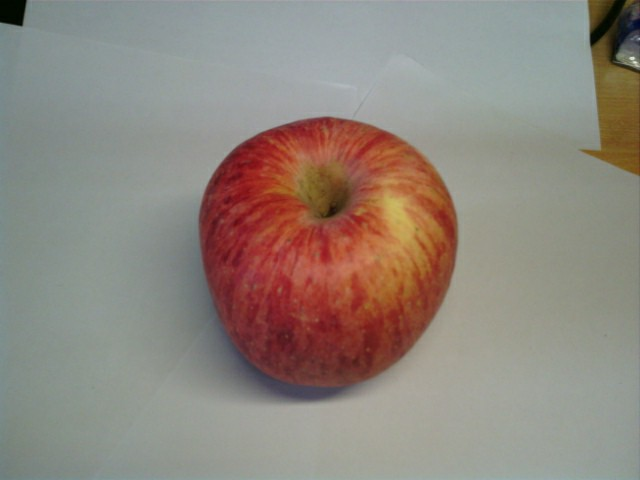normal_apple: (198, 116, 459, 392)
